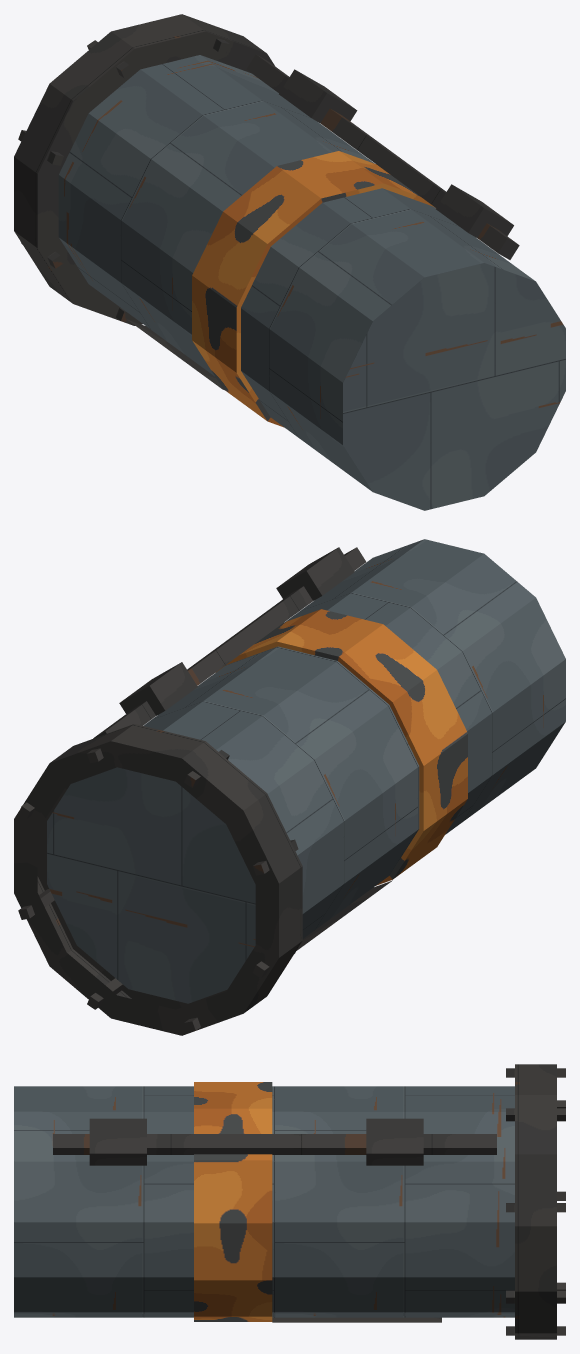
File: pipe_straight_4m_v1.fbx
The picture shows the model from 3 angles, top to bottom: view 1: azimuth 30°, elevation 25°; view 2: azimuth 150°, elevation 25°; view 3: azimuth 270°, elevation 25°; orthographic projection. The views are drawn at different scales.
Visible parts, largest first — view 1: pipe_straight_4m_v1_lod0; view 2: pipe_straight_4m_v1_lod0; view 3: pipe_straight_4m_v1_lod0.
Part boxes in pixels (box(x1,y1,x2,y2)): pipe_straight_4m_v1_lod0: box(14, 14, 565, 510); pipe_straight_4m_v1_lod0: box(14, 539, 565, 1035); pipe_straight_4m_v1_lod0: box(14, 1064, 565, 1339).
Size of what is drawn, in the model's own units: 207 by 207 by 423.
